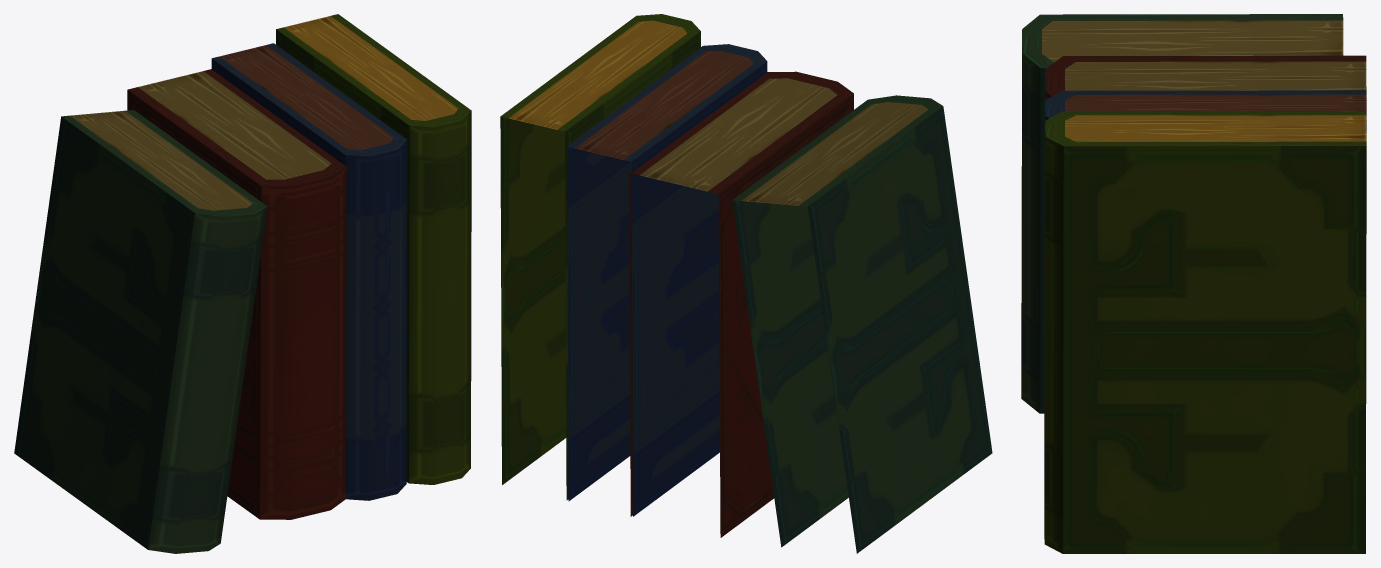
The model's file is bookgroup-small-1.glb.
3 renders of one model, left to right at view 1: azimuth 30°, elevation 25°; view 2: azimuth 150°, elevation 25°; view 3: azimuth 270°, elevation 25°, orthographic. The views are drawn at different scales.
Visible parts, largest first — view 1: BookGroup_Small_1; view 2: BookGroup_Small_1; view 3: BookGroup_Small_1.
Boxes of the visible parts, <box> form: BookGroup_Small_1: <box>14,14,471,553</box>; BookGroup_Small_1: <box>500,14,992,553</box>; BookGroup_Small_1: <box>1021,14,1366,553</box>.
Size of the model in its own units: 0.2893 by 0.2983 by 0.2256.
Materials: 1 (1 with a texture image).
